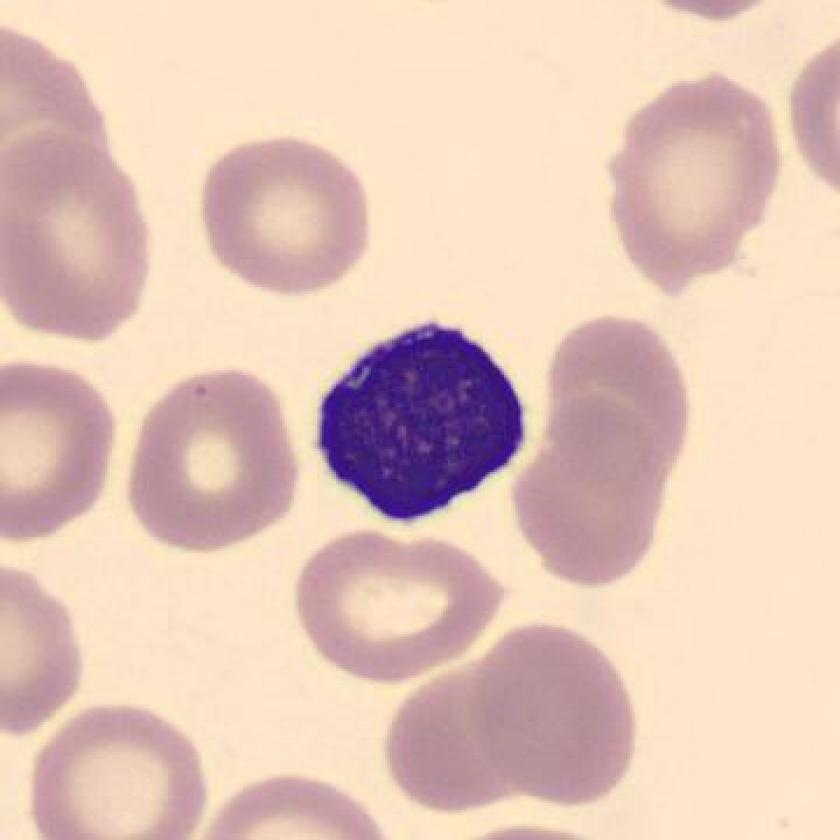lymphocyte: (295, 309, 549, 542)
